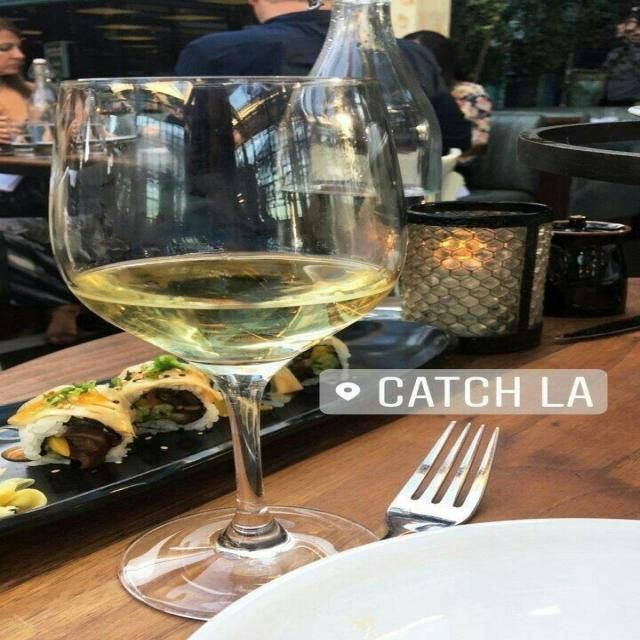glass-wine: (44, 68, 410, 627)
